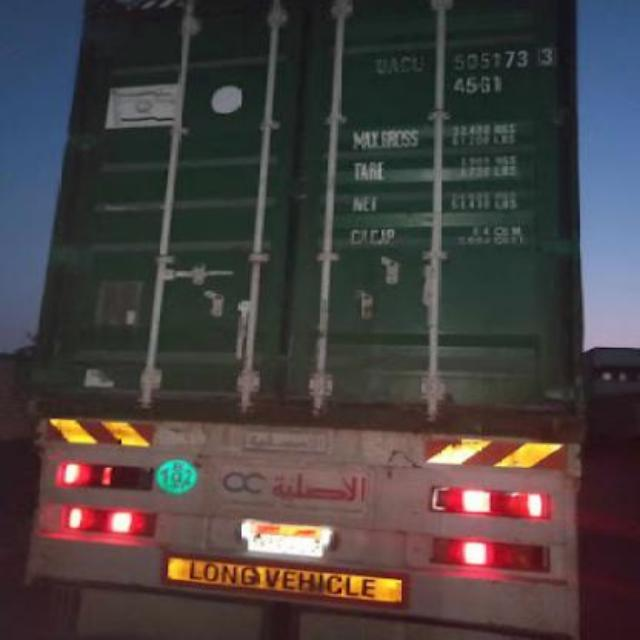0: (466, 42, 478, 74)
1: (492, 44, 502, 72)
3: (536, 44, 554, 66), (518, 44, 528, 70)
5: (452, 44, 468, 74), (478, 44, 490, 72)
7: (502, 42, 516, 72)
A: (386, 50, 399, 80)
C: (398, 49, 410, 76)
U: (370, 51, 386, 75), (412, 48, 424, 78)
